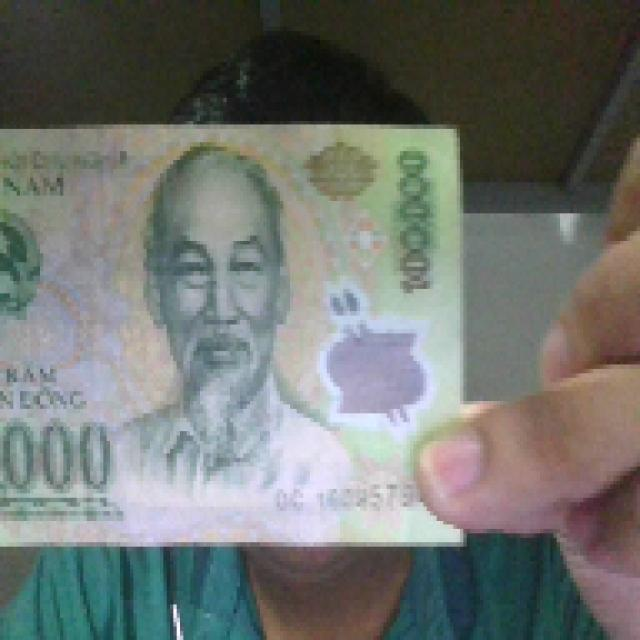100 000 VND: (0, 116, 470, 551)
